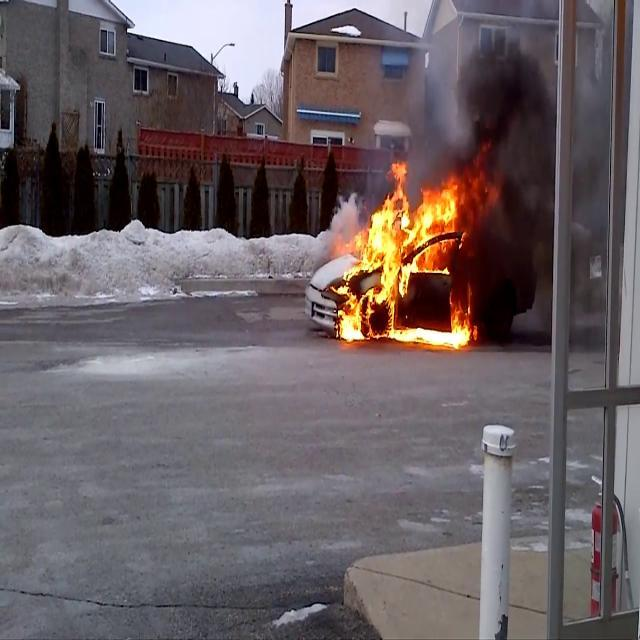Fire: (325, 158, 481, 350)
Smoke: (418, 5, 620, 267)
